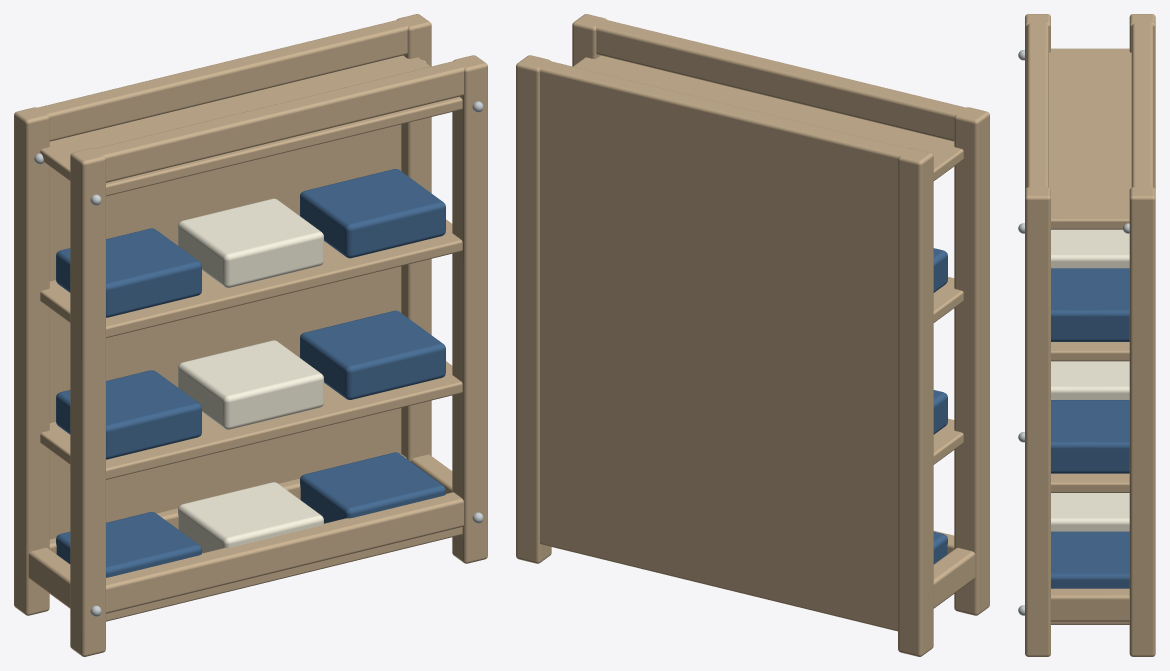
The model's file is textile-weaving-and-dye-workshop-finished-cloth-shelf-76f309c6__29561.glb.
3 renders of one model, left to right at view 1: azimuth 30°, elevation 25°; view 2: azimuth 150°, elevation 25°; view 3: azimuth 270°, elevation 25°, orthographic. The views are drawn at different scales.
Parts seen in each view (by area): view 1: finished-cloth-shelf; view 2: finished-cloth-shelf; view 3: finished-cloth-shelf.
Boxes of the visible parts, left/top/right/bottom form: finished-cloth-shelf: left=14, top=14, right=487, bottom=656; finished-cloth-shelf: left=516, top=14, right=989, bottom=656; finished-cloth-shelf: left=1018, top=14, right=1155, bottom=656.
Size of the model in its own units: 1.5 by 1.75 by 0.473.
